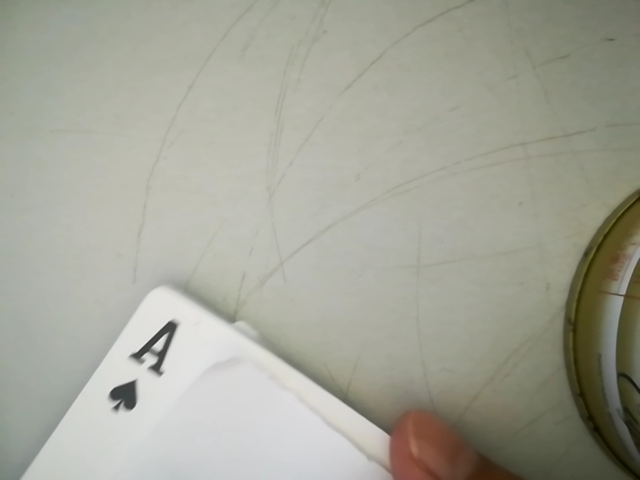ht a: (102, 294, 188, 412)
